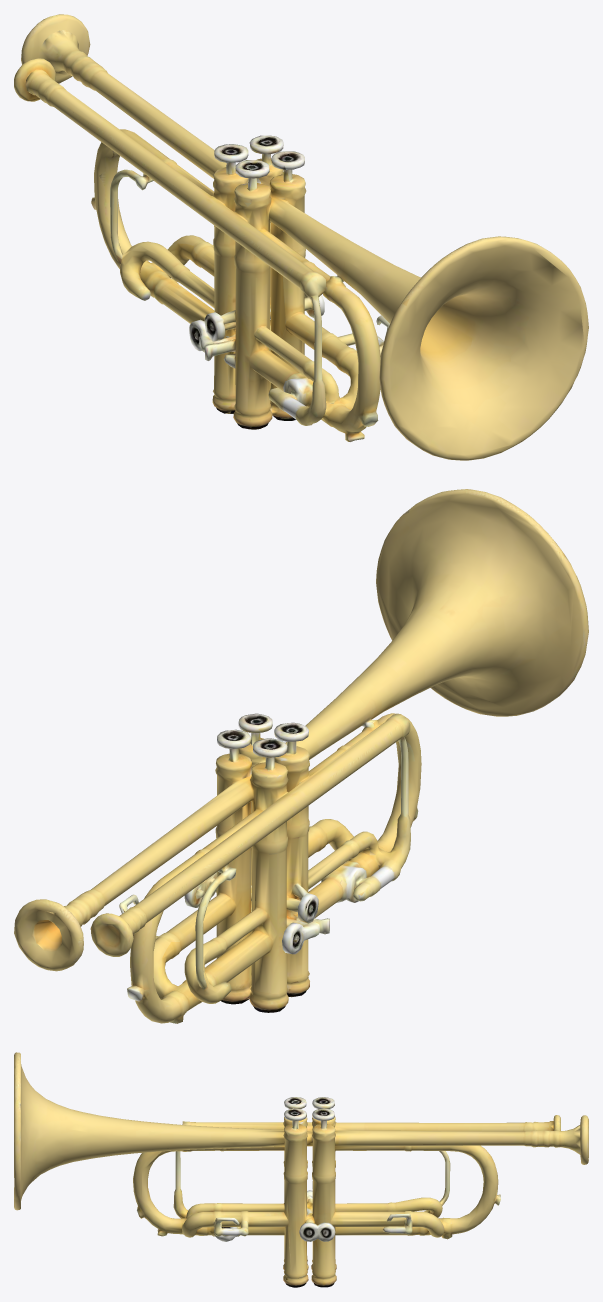
The model's file is trumpet.glb.
3 views of the same model, one above another, from view 1: azimuth 30°, elevation 25°; view 2: azimuth 150°, elevation 25°; view 3: azimuth 270°, elevation 25° (orthographic). The views are drawn at different scales.
Visible parts, largest first — view 1: mesh; view 2: mesh; view 3: mesh.
Part boxes in pixels (left/top/right/bottom): mesh: left=14, top=14, right=588, bottom=460; mesh: left=14, top=489, right=588, bottom=1023; mesh: left=14, top=1052, right=588, bottom=1287.
Bounding box in the file's own units: 0.2766 × 0.4247 × 1.
Materials: 1 (1 with a texture image).
